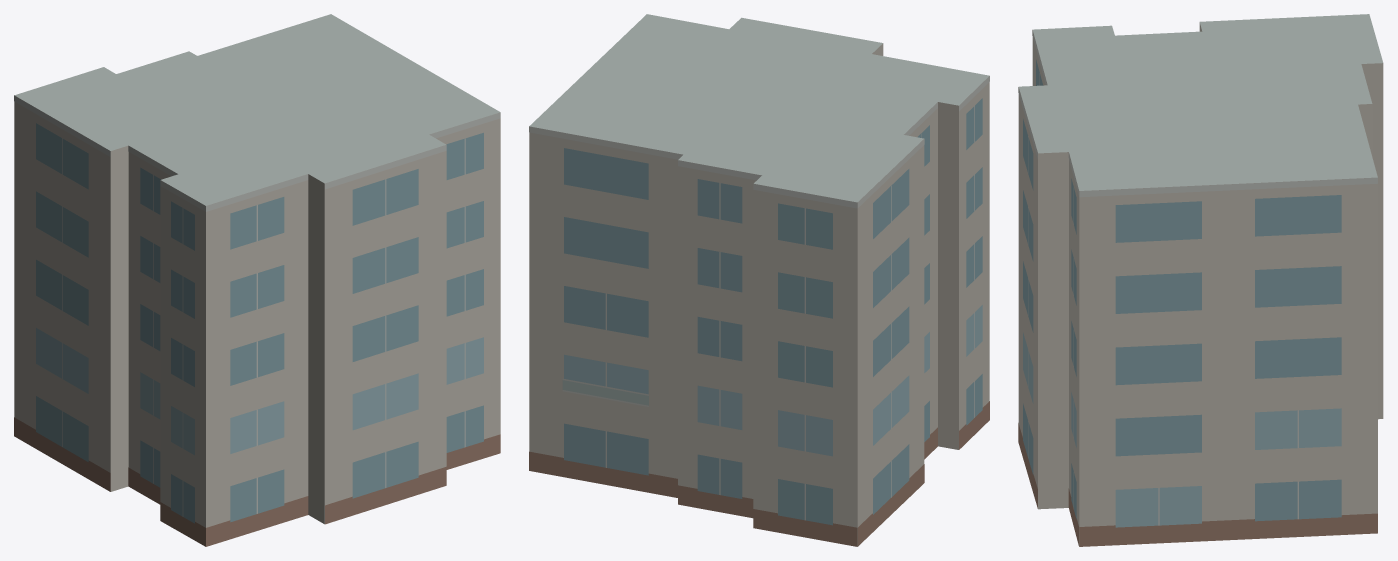
Rendered from survey-upis-32965393.glb.
3 renders of one model, left to right at view 1: azimuth 30°, elevation 25°; view 2: azimuth 150°, elevation 25°; view 3: azimuth 270°, elevation 25°, orthographic. The views are drawn at different scales.
Parts seen in each view (by area): view 1: survey-upis-32965393.tmp; view 2: survey-upis-32965393.tmp; view 3: survey-upis-32965393.tmp.
Part boxes in pixels (box(x1,y1,x2,y2)): survey-upis-32965393.tmp: box(14, 14, 500, 546); survey-upis-32965393.tmp: box(529, 14, 989, 546); survey-upis-32965393.tmp: box(1018, 14, 1383, 546).
Bounding box in the file's own units: 14.73 × 13.8 × 12.83.
